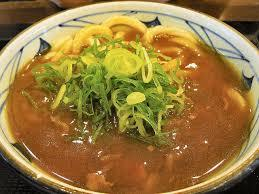curry: (1, 2, 258, 194)
